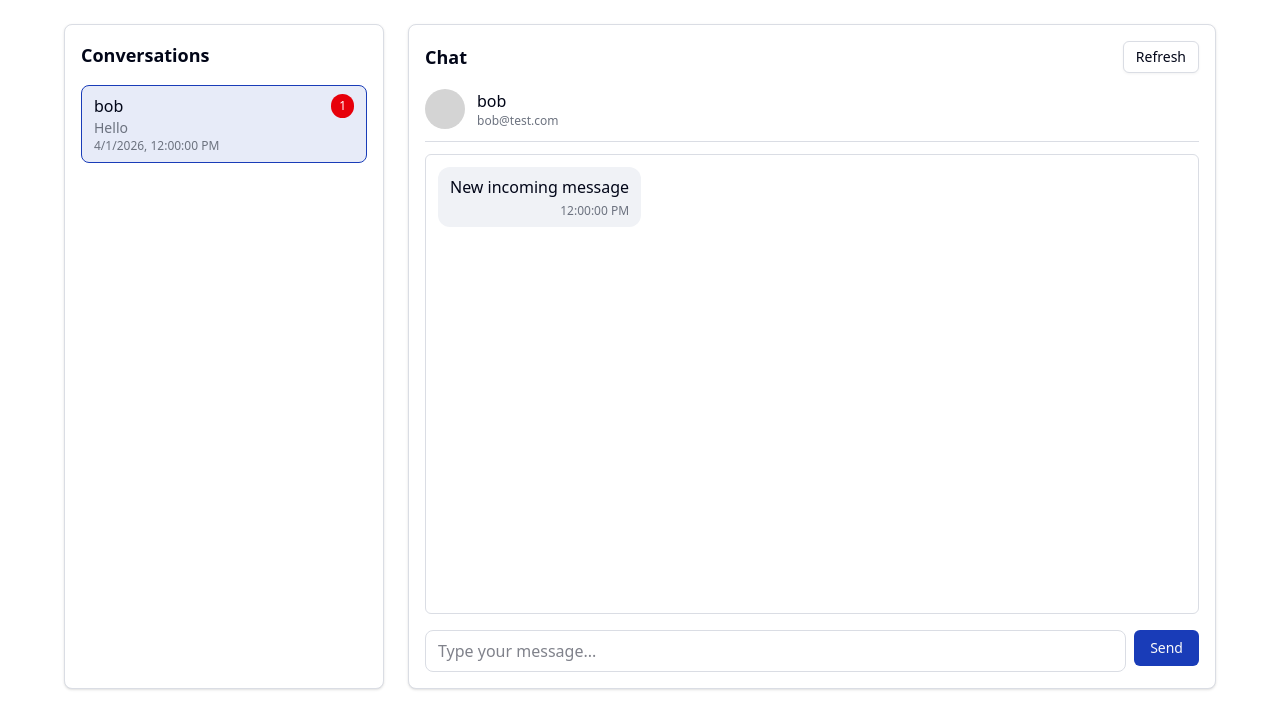
Chat page › sends a message and displays it in the thread
Type "Hi, I'm interested" into the field with placeholder "Type your message..." at (776, 651), box [425,630,1126,672]
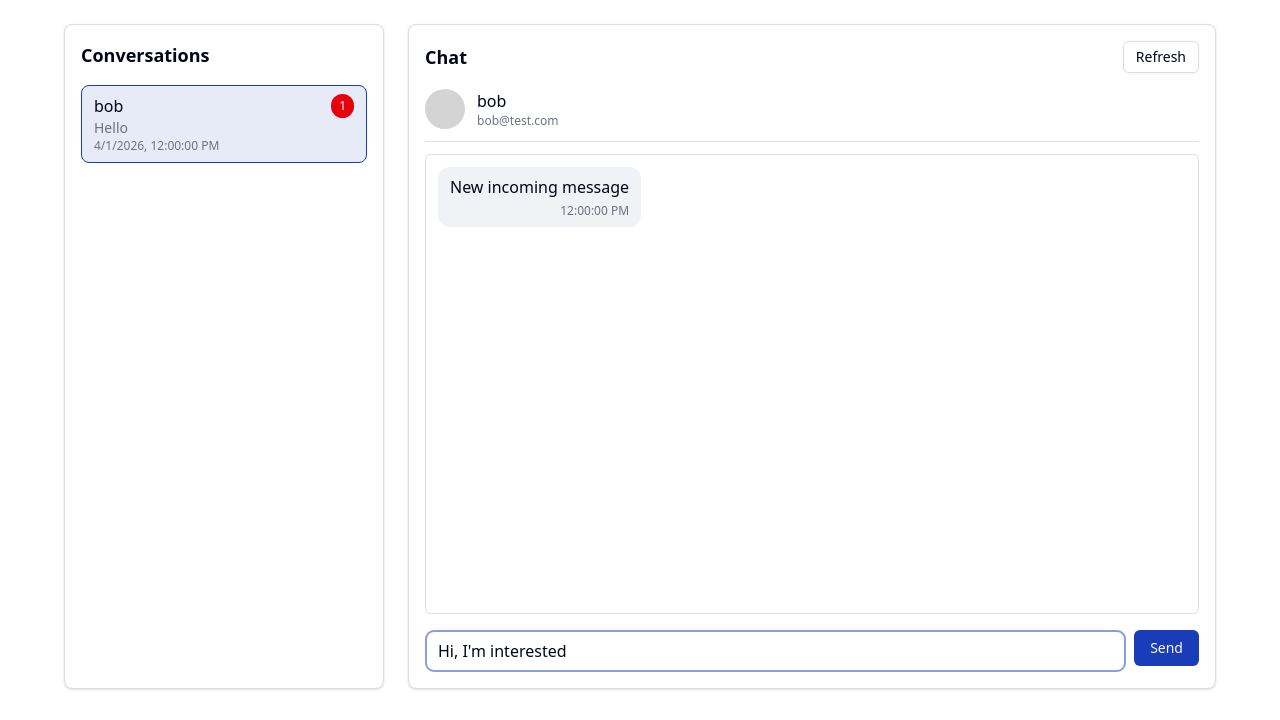
Click the button "Send" at (1167, 648), box [1134,630,1199,666]
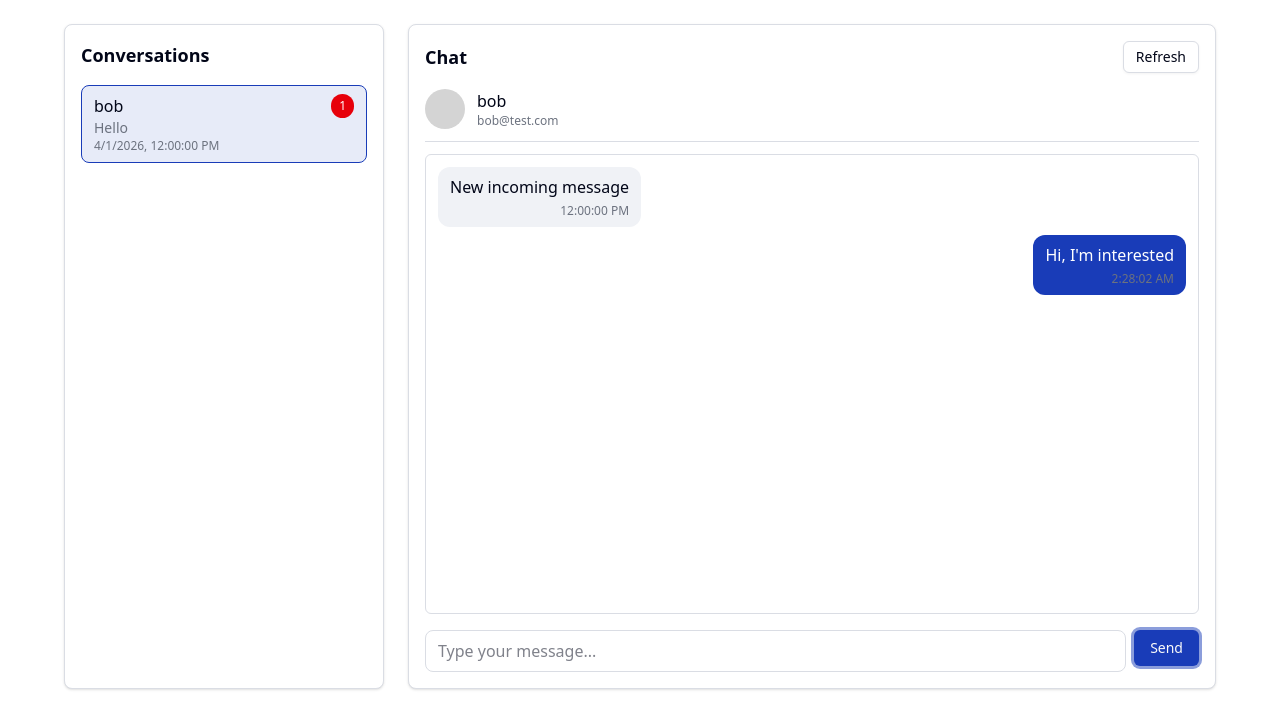
Now the text "Hi, I'm interested" is shown, box [1046,243,1174,267]
